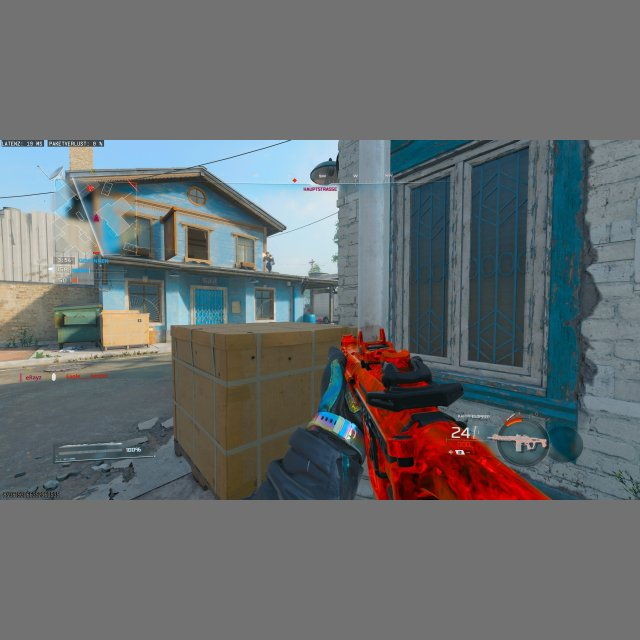player: (263, 251, 274, 272)
